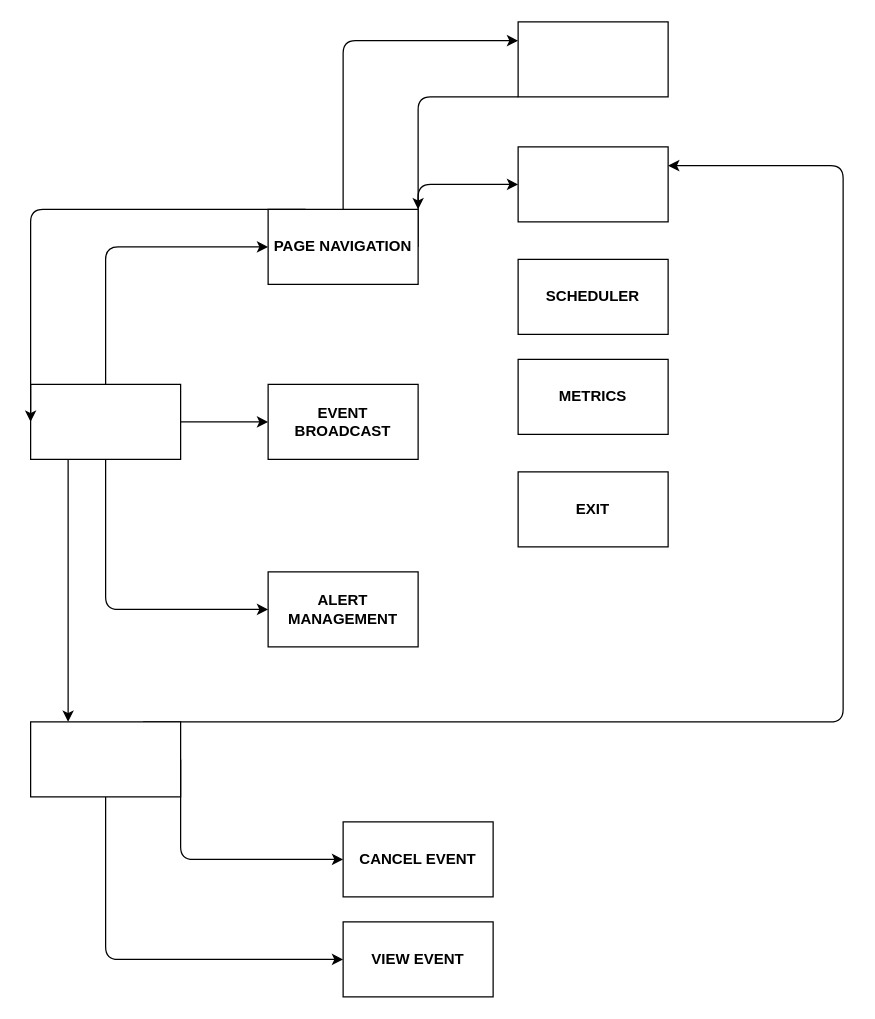
The diagram is 875 pixels wide and 1019 high, and some of its shapes have lost their labels. Each missing label, with the centre of its shape:
HOME SCREEN: the point at 105,421
LIVE SESSION: the point at 592,184
PROFILE MANAGEMENT: the point at 592,59
USER SCHEDULE: the point at 105,759
